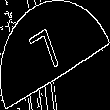L_SE: (36, 26, 74, 84)
